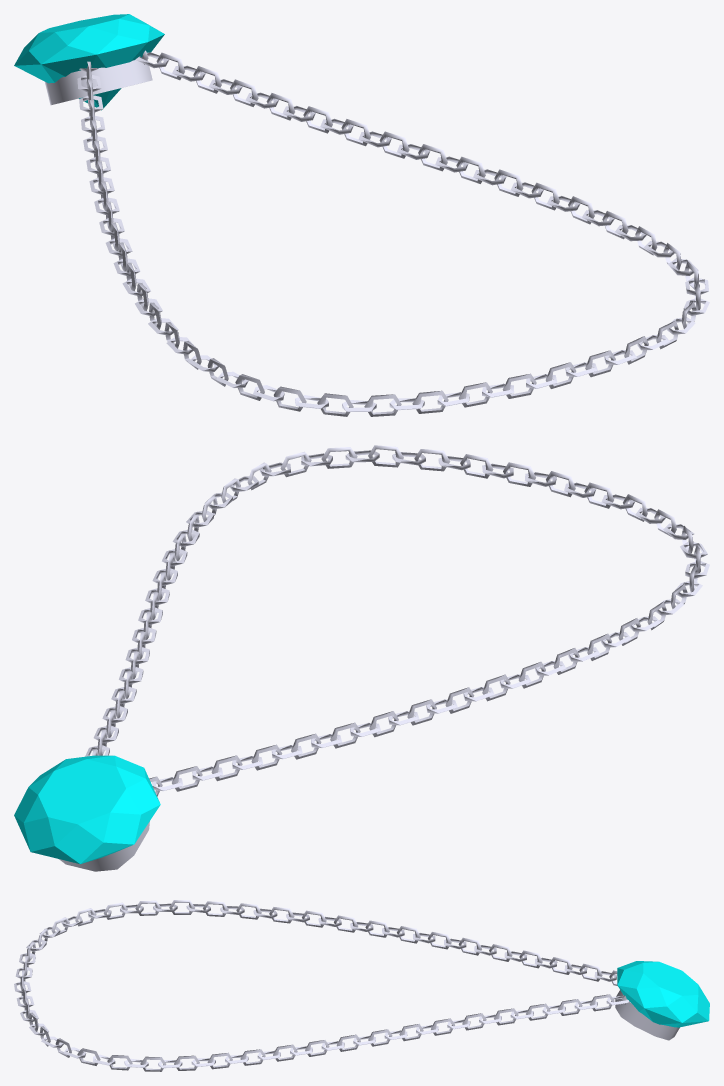
The model's file is Necklace.fbx.
3 views of the same model, one above another, from view 1: azimuth 30°, elevation 25°; view 2: azimuth 150°, elevation 25°; view 3: azimuth 270°, elevation 25° (orthographic). The views are drawn at different scales.
Parts seen in each view (by area): view 1: Torus.003, Gem.005, Cube.014; view 2: Torus.003, Gem.005, Cube.014; view 3: Torus.003, Gem.005, Cube.014.
Boxes of the visible parts, x1,y1,x2,y2 form: Torus.003: [77, 50, 709, 416]; Gem.005: [14, 14, 164, 110]; Cube.014: [45, 60, 152, 105]; Torus.003: [85, 445, 709, 796]; Gem.005: [14, 755, 160, 864]; Cube.014: [59, 821, 149, 871]; Torus.003: [14, 900, 629, 1071]; Gem.005: [617, 961, 709, 1027]; Cube.014: [615, 990, 679, 1040].
Bounding box in the file's own units: 0.4071 × 0.0742 × 0.7309.
